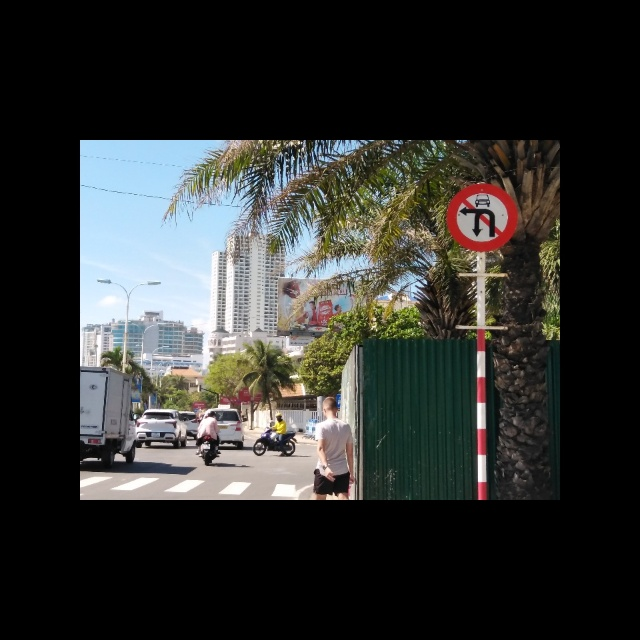Cấm xe ô tô quay đầu và rẽ trái: (446, 182, 518, 252)
